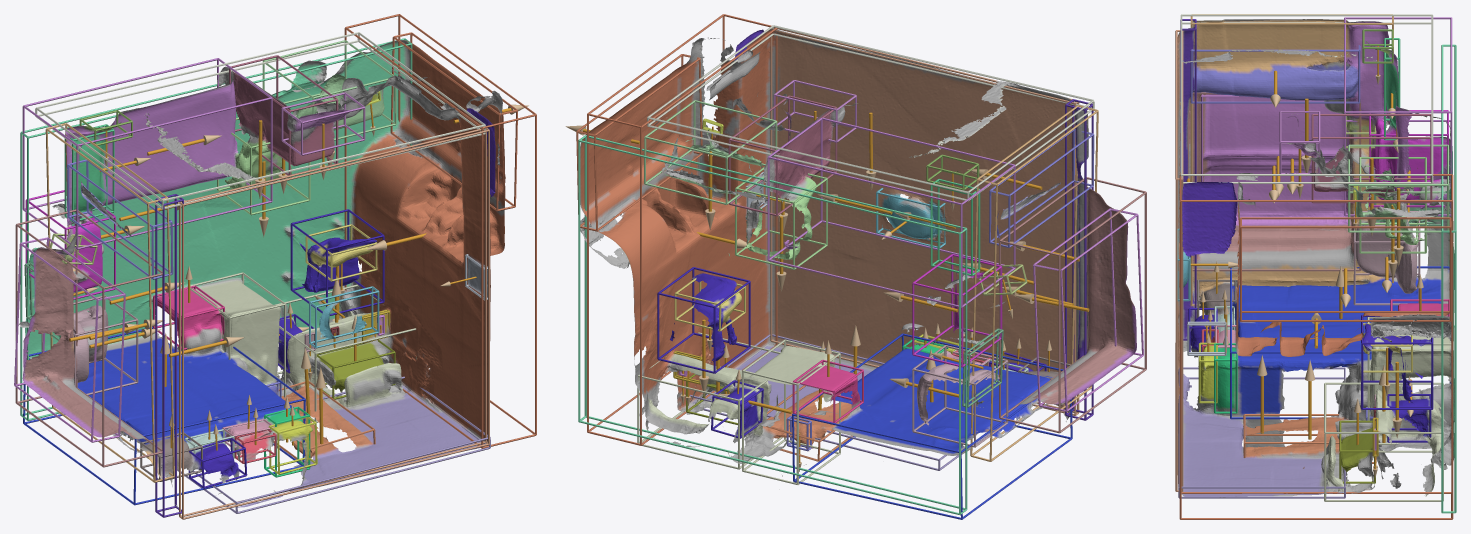
File: scene_00128_00-obb.compressed.gltf
The picture shows the model from 3 angles, left to right: view 1: azimuth 30°, elevation 25°; view 2: azimuth 150°, elevation 25°; view 3: azimuth 270°, elevation 25°; orthographic projection.
Bounding box in the file's own units: 5.44 × 3.81 × 2.61.
